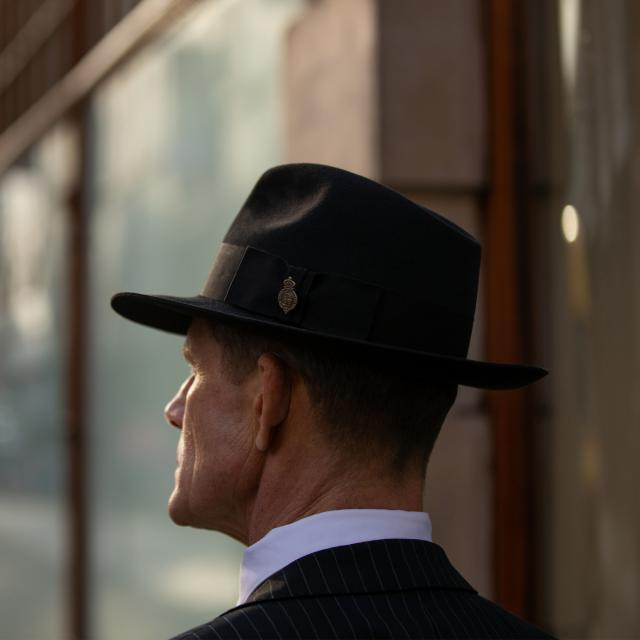hat: (103, 121, 566, 406)
